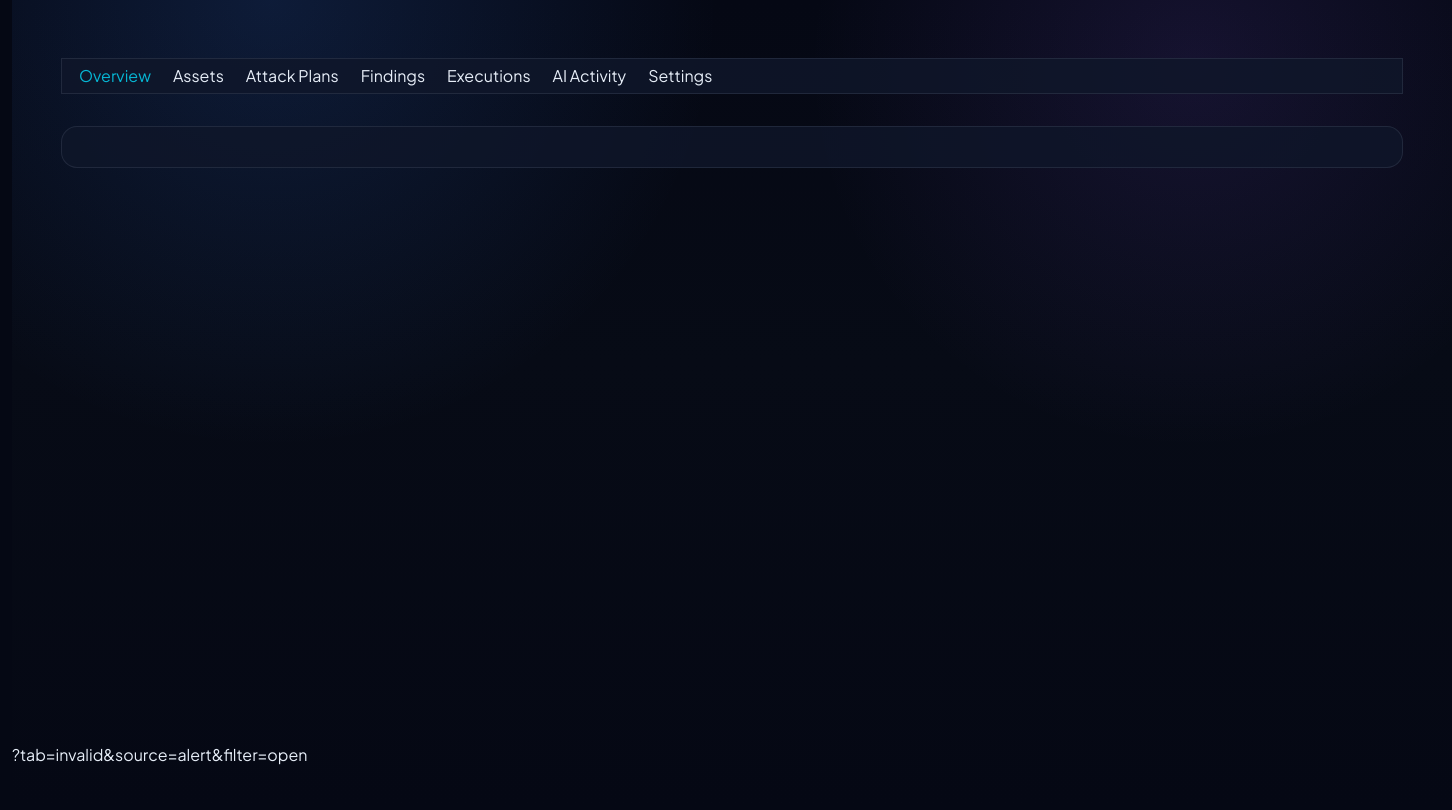
Test: TargetDashboard › preserves unrelated search params when a primary tab changes from an invalid tab URL
Expected: the tab "Overview" is shown, [70,67,160,84]
Click the tab "Assets": point(198, 76) [164,67,233,84]
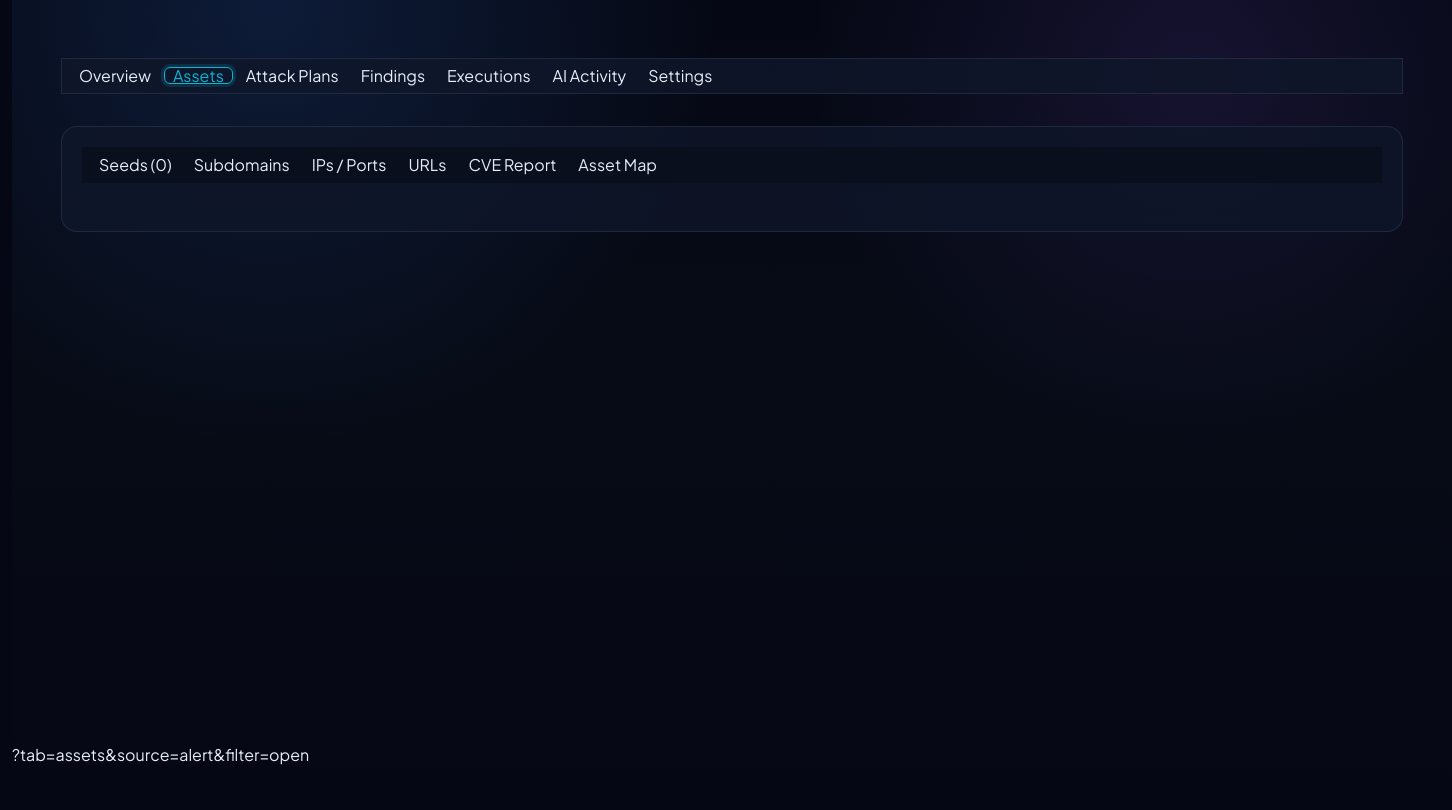
Result: the text with test id "search-params" reads "?tab=assets&source=alert&filter=open" at [12,744,309,765]
